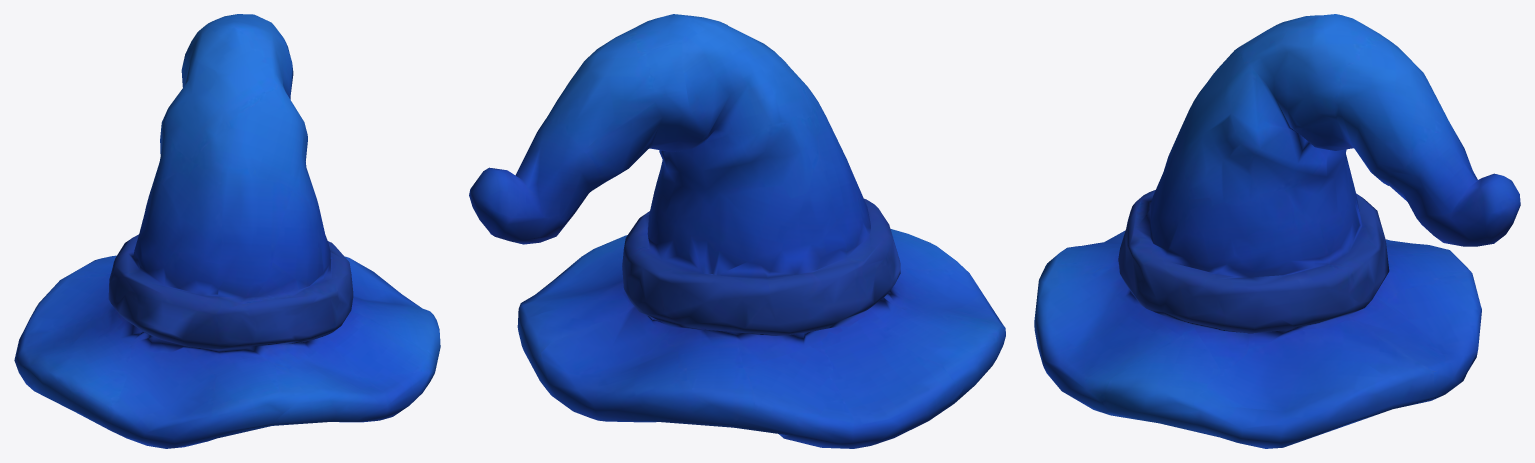
The model's file is hat_wizardB-Bn7nTUxN.glb.
The picture shows the model from 3 angles, left to right: view 1: azimuth 30°, elevation 25°; view 2: azimuth 150°, elevation 25°; view 3: azimuth 270°, elevation 25°; orthographic projection. The views are drawn at different scales.
Parts seen in each view (by area): view 1: tripo_node_5c74a7a5-4b20-42a1-84f6-c702faf24d7d; view 2: tripo_node_5c74a7a5-4b20-42a1-84f6-c702faf24d7d; view 3: tripo_node_5c74a7a5-4b20-42a1-84f6-c702faf24d7d.
Boxes of the visible parts, bbox=[...] form: tripo_node_5c74a7a5-4b20-42a1-84f6-c702faf24d7d: bbox=[14, 14, 440, 448]; tripo_node_5c74a7a5-4b20-42a1-84f6-c702faf24d7d: bbox=[469, 14, 1005, 448]; tripo_node_5c74a7a5-4b20-42a1-84f6-c702faf24d7d: bbox=[1034, 14, 1520, 448].
Bounding box in the file's own units: 1 × 0.8026 × 0.9971.
Materials: 1 (1 with a texture image).
